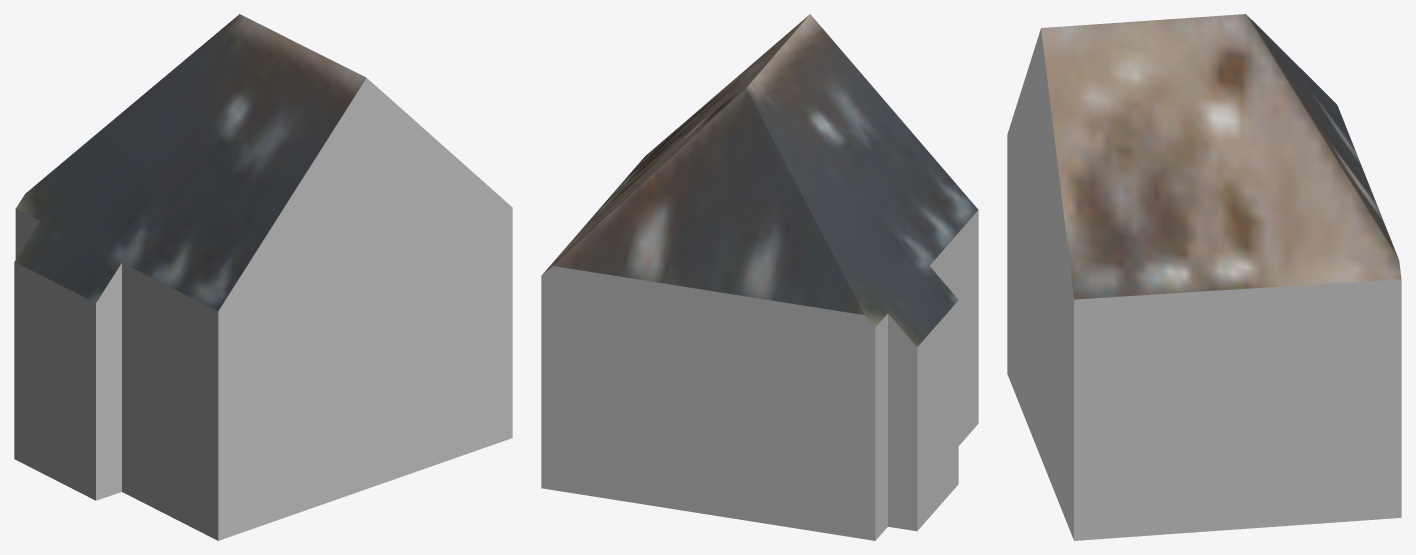
The model's file is DEBW_0010007Txem.gltf.
3 renders of one model, left to right at view 1: azimuth 30°, elevation 25°; view 2: azimuth 150°, elevation 25°; view 3: azimuth 270°, elevation 25°, orthographic. The views are drawn at different scales.
Parts seen in each view (by area): view 1: Z_UP; view 2: Z_UP; view 3: Z_UP.
Boxes of the visible parts, box(x1,y1,x2,y2) form: Z_UP: box(14, 14, 512, 540); Z_UP: box(541, 14, 978, 540); Z_UP: box(1007, 14, 1401, 540).
Bounding box in the file's own units: 13.68 × 13.61 × 11.29.
Materials: 2 (1 with a texture image).
